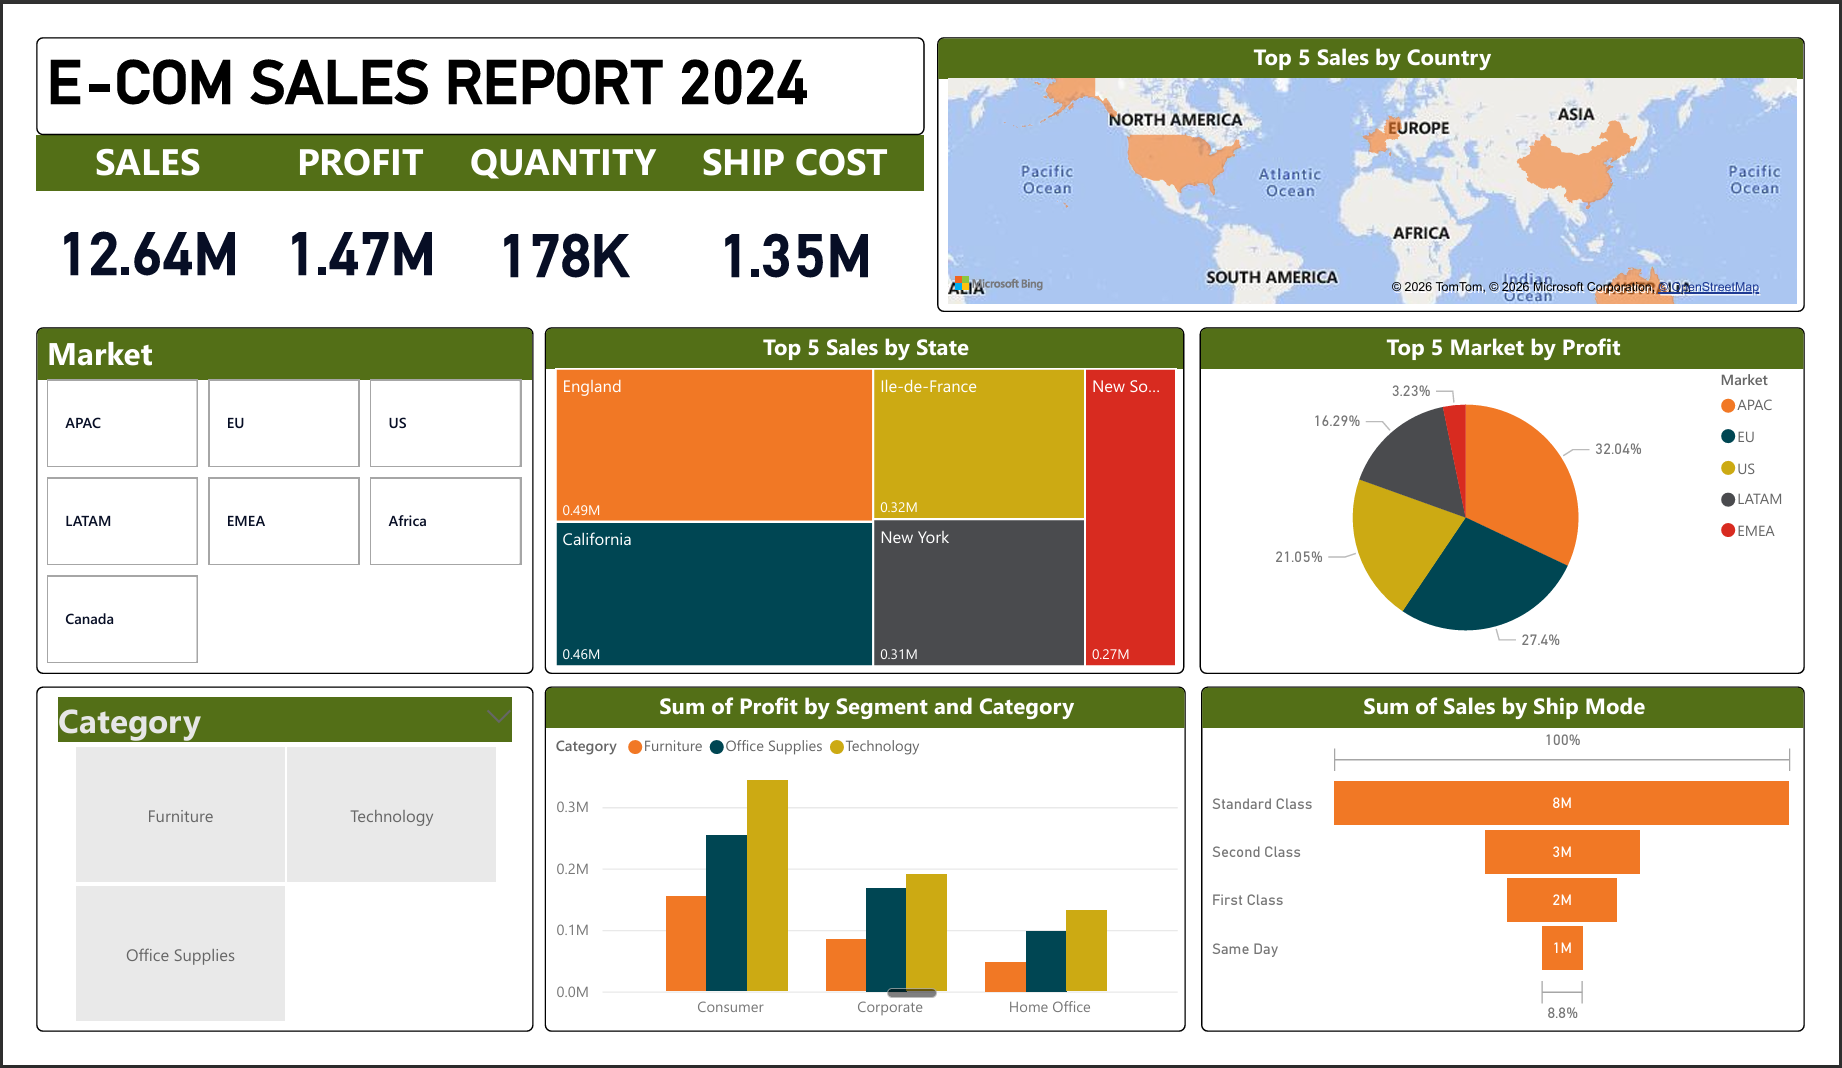

What the dashboard file says about the page in this screenshot:
{"tool":"powerbi","page":{"name":"Page 1","canvas":[1280,720],"ordinal":0},"visuals":[{"type":"advancedSlicerVisual","title":"Market","fields":{"Values":["Orders.Market"]},"box":[0,210.3,359.5,250.7],"z":0},{"type":"funnel","fields":{"Category":["Orders.Ship Mode"],"Y":["Sum(Orders.Sales)"]},"box":[842.5,469.6,437.8,250.7],"z":1000},{"type":"card","title":"SALES","fields":{"Values":["Sum(Orders.Sales)"]},"box":[0,70.9,161.4,127.2],"z":2000},{"type":"treemap","title":"Top 5 Sales by State","fields":{"Group":["Orders.State"],"Values":["Sum(Orders.Sales)"]},"box":[367.5,210.2,463.8,250.9],"z":3000},{"type":"filledMap","title":"Top 5 Sales by Country","fields":{"Category":["Orders.Country"]},"box":[651.8,0,628.5,199.3],"z":4000},{"type":"card","title":"PROFIT","fields":{"Values":["Sum(Orders.Profit)"]},"box":[161.2,71.2,146.2,127.5],"z":5000},{"type":"card","title":"QUANTITY","fields":{"Values":["Sum(Orders.Quantity)"]},"box":[306.9,70.9,149.2,129.6],"z":6000},{"type":"card","title":"SHIP COST","fields":{"Values":["Sum(Orders.Shipping Cost)"]},"box":[456.1,70.9,185.9,129.6],"z":7000},{"type":"textbox","box":[0,0,642.5,71.2],"z":8000},{"type":"slicer","fields":{"Values":["Orders.Category"]},"box":[0,469.6,359.5,250.7],"z":9000},{"type":"lineClusteredColumnComboChart","fields":{"Category":["Orders.Segment"],"Y":["Sum(Orders.Profit)"],"Series":["Orders.Category"]},"box":[368.1,469.6,463.5,250.7],"z":10000},{"type":"pieChart","title":"Top 5 Market by Profit","fields":{"Category":["Orders.Market"],"Y":["Sum(Orders.Profit)"]},"box":[842.2,210.2,438.1,250.9],"z":11000}]}

Visuals, with their boxes in screenshot pixels (x1, y1, x2, y2), scaled from the page's 1280x720 canvas onto the 1842x1068 screenshot:
"Market" advancedSlicerVisual: 0,312,517,684
funnel - Orders.Ship Mode x Sum(Orders.Sales): 1212,697,1841,1067
"SALES" card: 0,105,232,294
"Top 5 Sales by State" treemap: 529,312,1196,684
"Top 5 Sales by Country" filledMap: 938,0,1841,296
"PROFIT" card: 232,106,442,295
"QUANTITY" card: 442,105,656,297
"SHIP COST" card: 656,105,924,297
textbox: 0,0,925,106
slicer - Orders.Category: 0,697,517,1067
lineClusteredColumnComboChart - Orders.Segment x Sum(Orders.Profit): 530,697,1197,1067
"Top 5 Market by Profit" pieChart: 1212,312,1841,684
